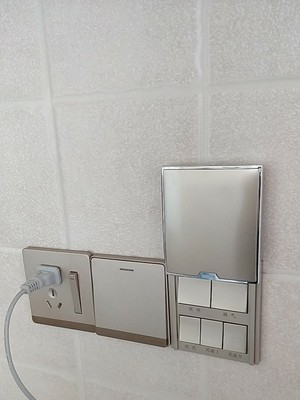switch: (90, 254, 172, 347), (210, 280, 250, 315), (176, 273, 213, 310), (220, 320, 252, 354), (199, 317, 227, 349), (175, 312, 200, 347)
